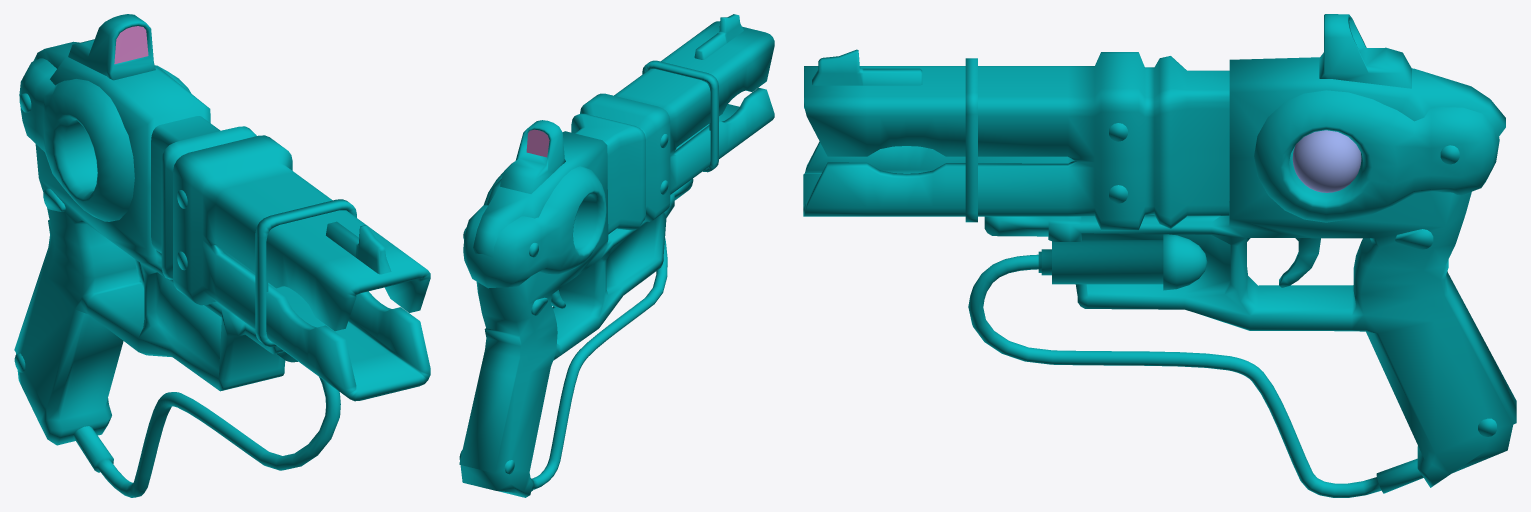
File: prop_laser_gun_good.FBX
The picture shows the model from 3 angles, left to right: view 1: azimuth 30°, elevation 25°; view 2: azimuth 150°, elevation 25°; view 3: azimuth 270°, elevation 25°; orthographic projection. The views are drawn at different scales.
Visible parts, largest first — view 1: prop_lasergunmain; view 2: prop_lasergunmain; view 3: prop_lasergunmain, prop_nergy1, prop_trigger.
Part boxes in pixels (<box>): prop_lasergunmain: <box>14,14,430,497</box>; prop_lasergunmain: <box>459,14,774,497</box>; prop_lasergunmain: <box>803,14,1516,497</box>; prop_nergy1: <box>1292,130,1361,192</box>; prop_trigger: <box>1279,238,1320,287</box>.
Size of the model in its own units: 0.0595 by 0.2238 by 0.3013.
